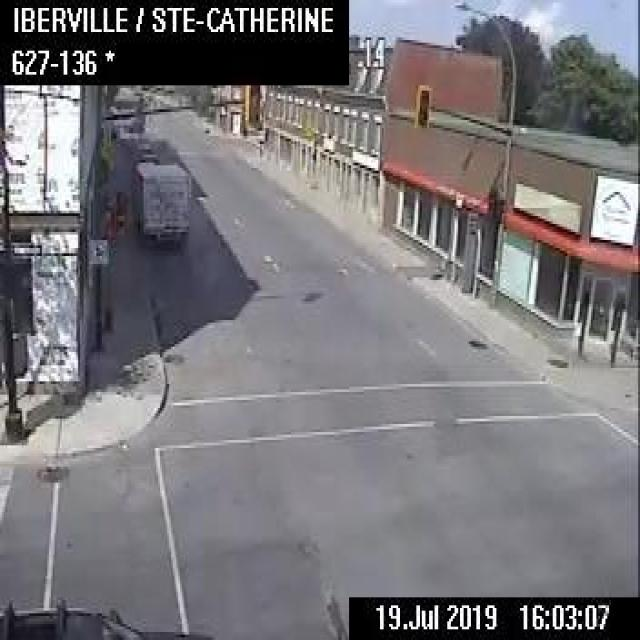vehicle: (0, 595, 211, 637), (129, 154, 191, 250)
